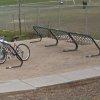Bicycle: (2, 28, 36, 69)
